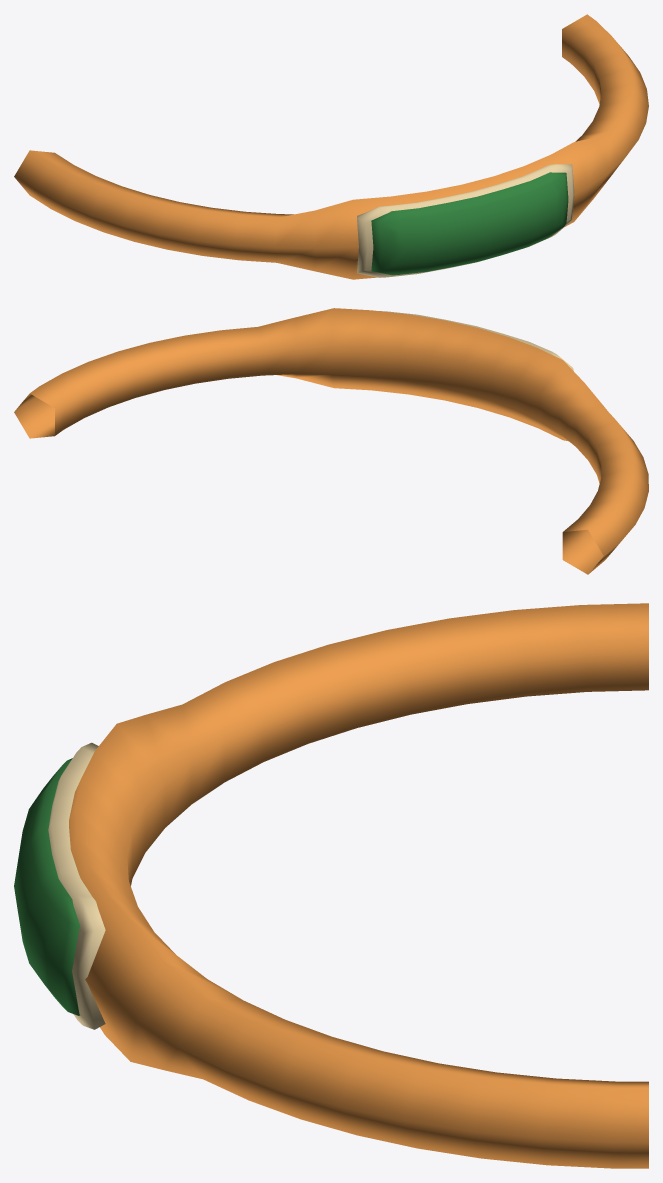
The model's file is Ring_Top_fixed.fbx.
3 renders of one model, top to bottom at view 1: azimuth 30°, elevation 25°; view 2: azimuth 150°, elevation 25°; view 3: azimuth 270°, elevation 25°, orthographic. The views are drawn at different scales.
Parts seen in each view (by area): view 1: Ring.001; view 2: Ring.001; view 3: Ring.001.
Boxes of the visible parts, x1=… form: Ring.001: x1=14, y1=14, x2=648, y2=279; Ring.001: x1=14, y1=308, x2=648, y2=574; Ring.001: x1=14, y1=603, x2=648, y2=1168.
Bounding box in the file's own units: 3.9 × 0.5058 × 2.04.
